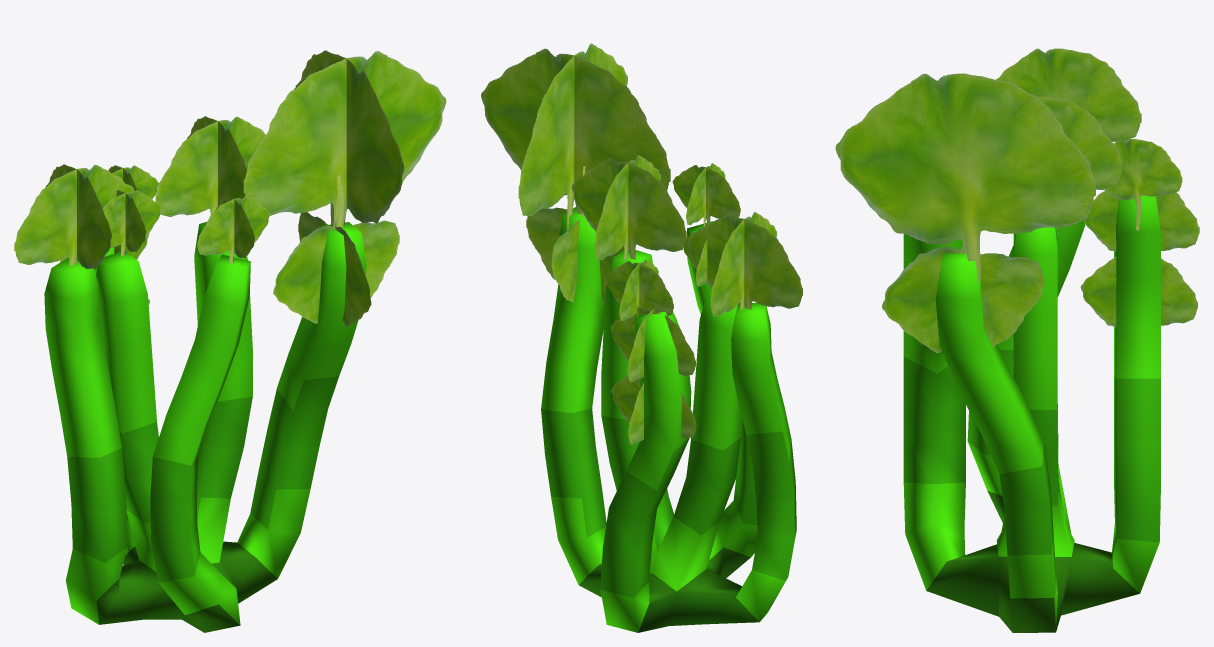
File: agriao.fbx
The picture shows the model from 3 angles, left to right: view 1: azimuth 30°, elevation 25°; view 2: azimuth 150°, elevation 25°; view 3: azimuth 270°, elevation 25°; orthographic projection. The views are drawn at different scales.
Parts seen in each view (by area): view 1: agriao, folhaAgriao; view 2: agriao, folhaAgriao; view 3: agriao, folhaAgriao.
Part boxes in pixels (x1,y1,x2,y2): agriao: (44, 222, 366, 632); folhaAgriao: (14, 50, 446, 326); agriao: (541, 207, 796, 632); folhaAgriao: (481, 43, 802, 444); agriao: (903, 195, 1160, 632); folhaAgriao: (835, 48, 1199, 353).
Size of the model in its own units: 1.01 by 1.35 by 0.7417.
